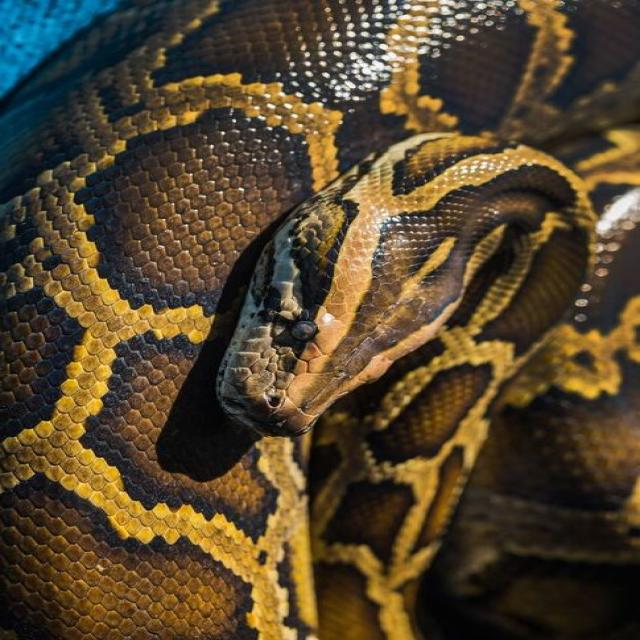Non-Venomous: (218, 148, 480, 470)
